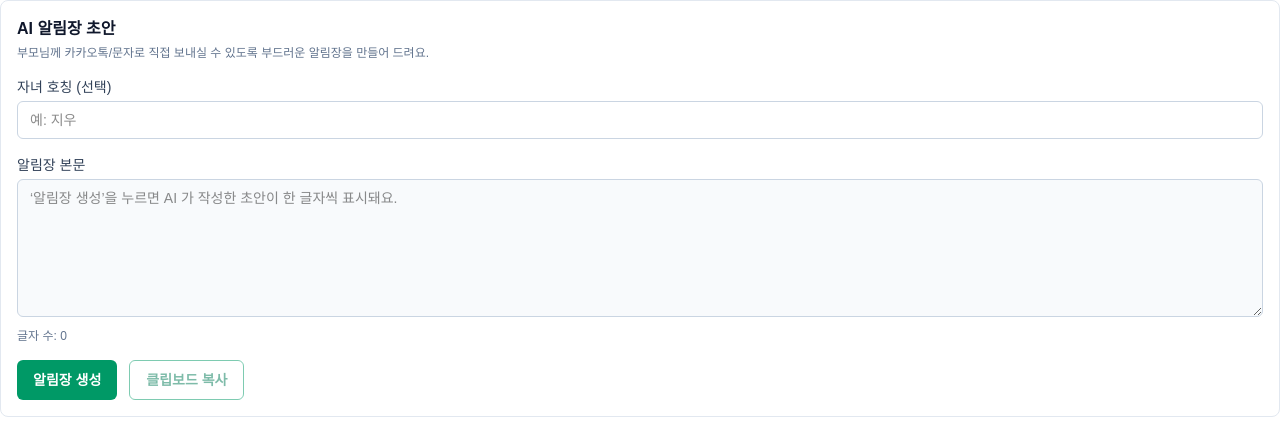
CushionNoteGenerator › scenario 2: streaming chunk 소비 → textarea 한 글자씩 채워짐 + 글자 수 갱신
This screenshot has width=1280, height=434.
Click the button with test id "cushion-generate-button" at (67, 380), box [17, 360, 117, 400]
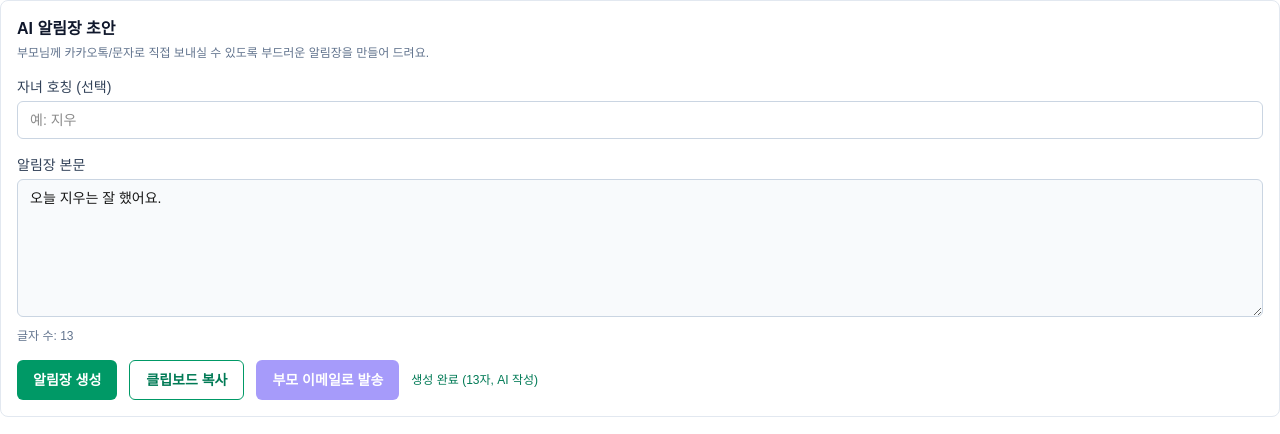
Result: the text box with test id "cushion-text-area" holds "오늘 지우는 잘 했어요." at [17, 179, 1263, 317]
Result: the text with test id "cushion-char-count" shows "13" at [60, 329, 74, 343]
